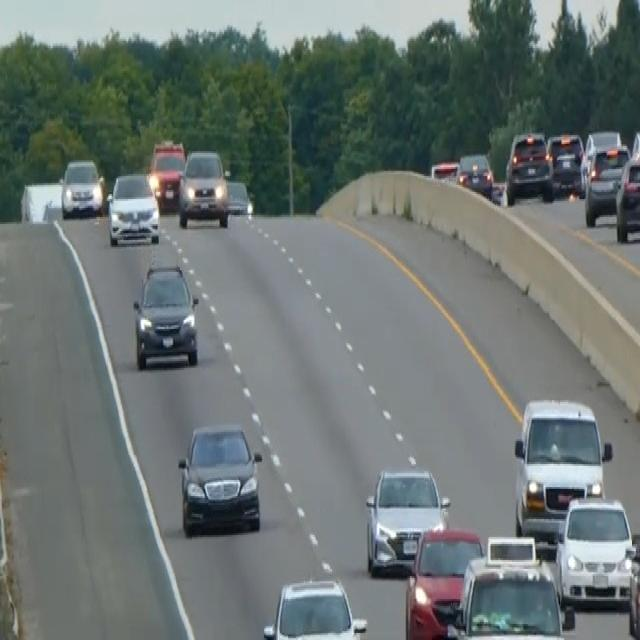car: (444, 535, 570, 638), (176, 419, 263, 537), (554, 492, 636, 612), (364, 464, 450, 576), (404, 524, 484, 638), (131, 261, 200, 370), (261, 576, 367, 638), (177, 148, 230, 228), (106, 169, 160, 245), (584, 142, 630, 226), (504, 128, 553, 203), (148, 138, 186, 212), (59, 156, 104, 218), (546, 130, 584, 196), (580, 128, 621, 187), (615, 149, 639, 242), (455, 149, 494, 199), (627, 528, 639, 638), (225, 178, 252, 215), (430, 156, 459, 182)
minivan: (512, 393, 612, 544)
